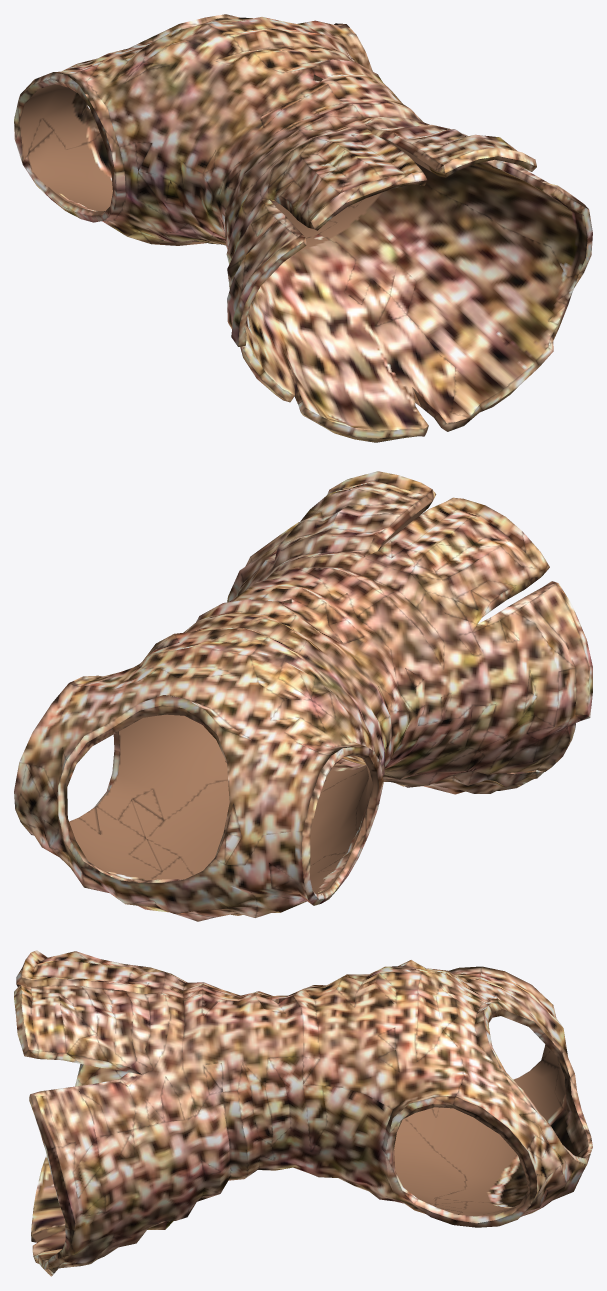
Rendered from item_mm9_10096.glb.
3 views of the same model, one above another, from view 1: azimuth 30°, elevation 25°; view 2: azimuth 150°, elevation 25°; view 3: azimuth 270°, elevation 25° (orthographic). The views are drawn at different scales.
Parts seen in each view (by area): view 1: d10096; view 2: d10096; view 3: d10096.
Part boxes in pixels (bbox=[...]): d10096: bbox=[14, 14, 592, 442]; d10096: bbox=[14, 471, 592, 921]; d10096: bbox=[14, 950, 592, 1276].
Size of the model in its own units: 0.6932 by 0.5326 by 1.02.
1 material, 1 textured.
